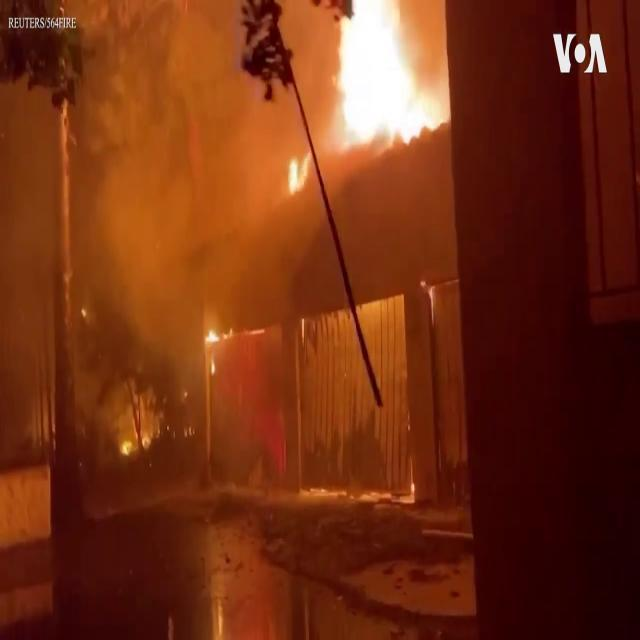Fire: (316, 0, 446, 157)
Smoke: (74, 2, 290, 450)
